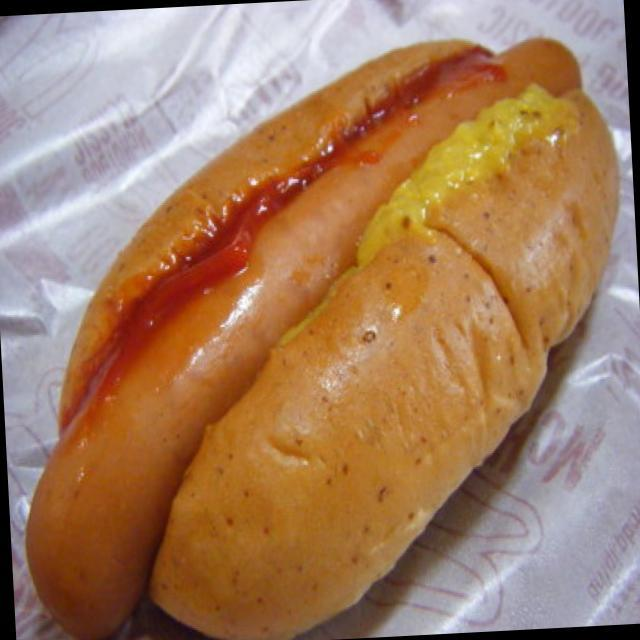Hot Dog: (0, 17, 637, 640)
